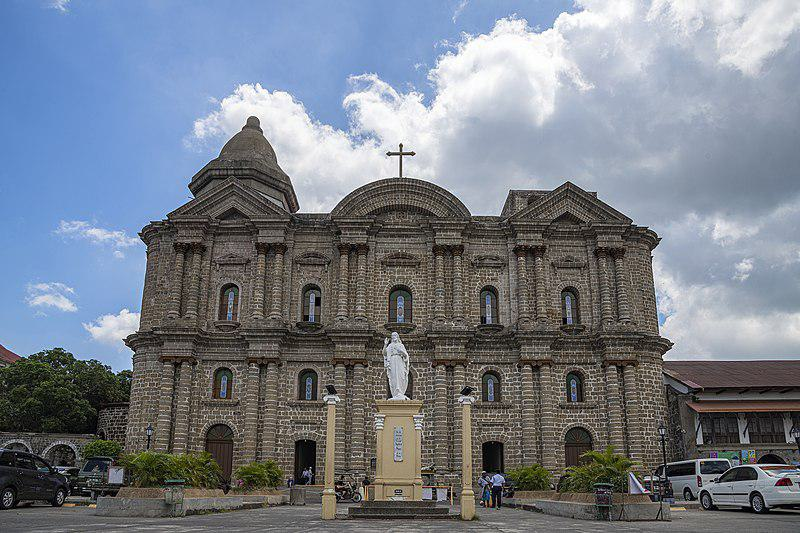taal_basilica_church_taal_batangas: (126, 105, 673, 502)
